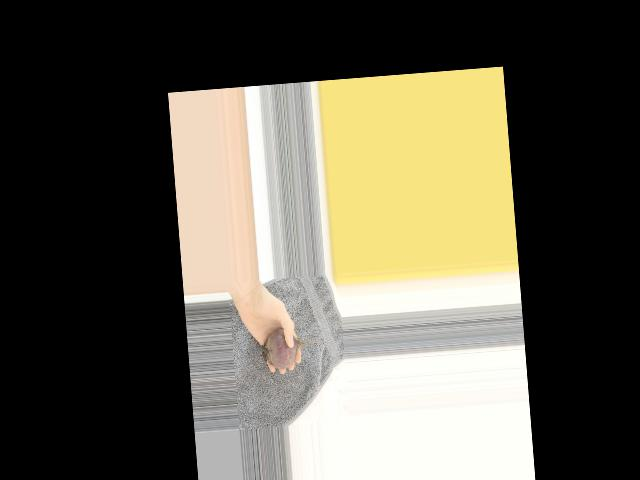beet: (259, 325, 329, 371)
